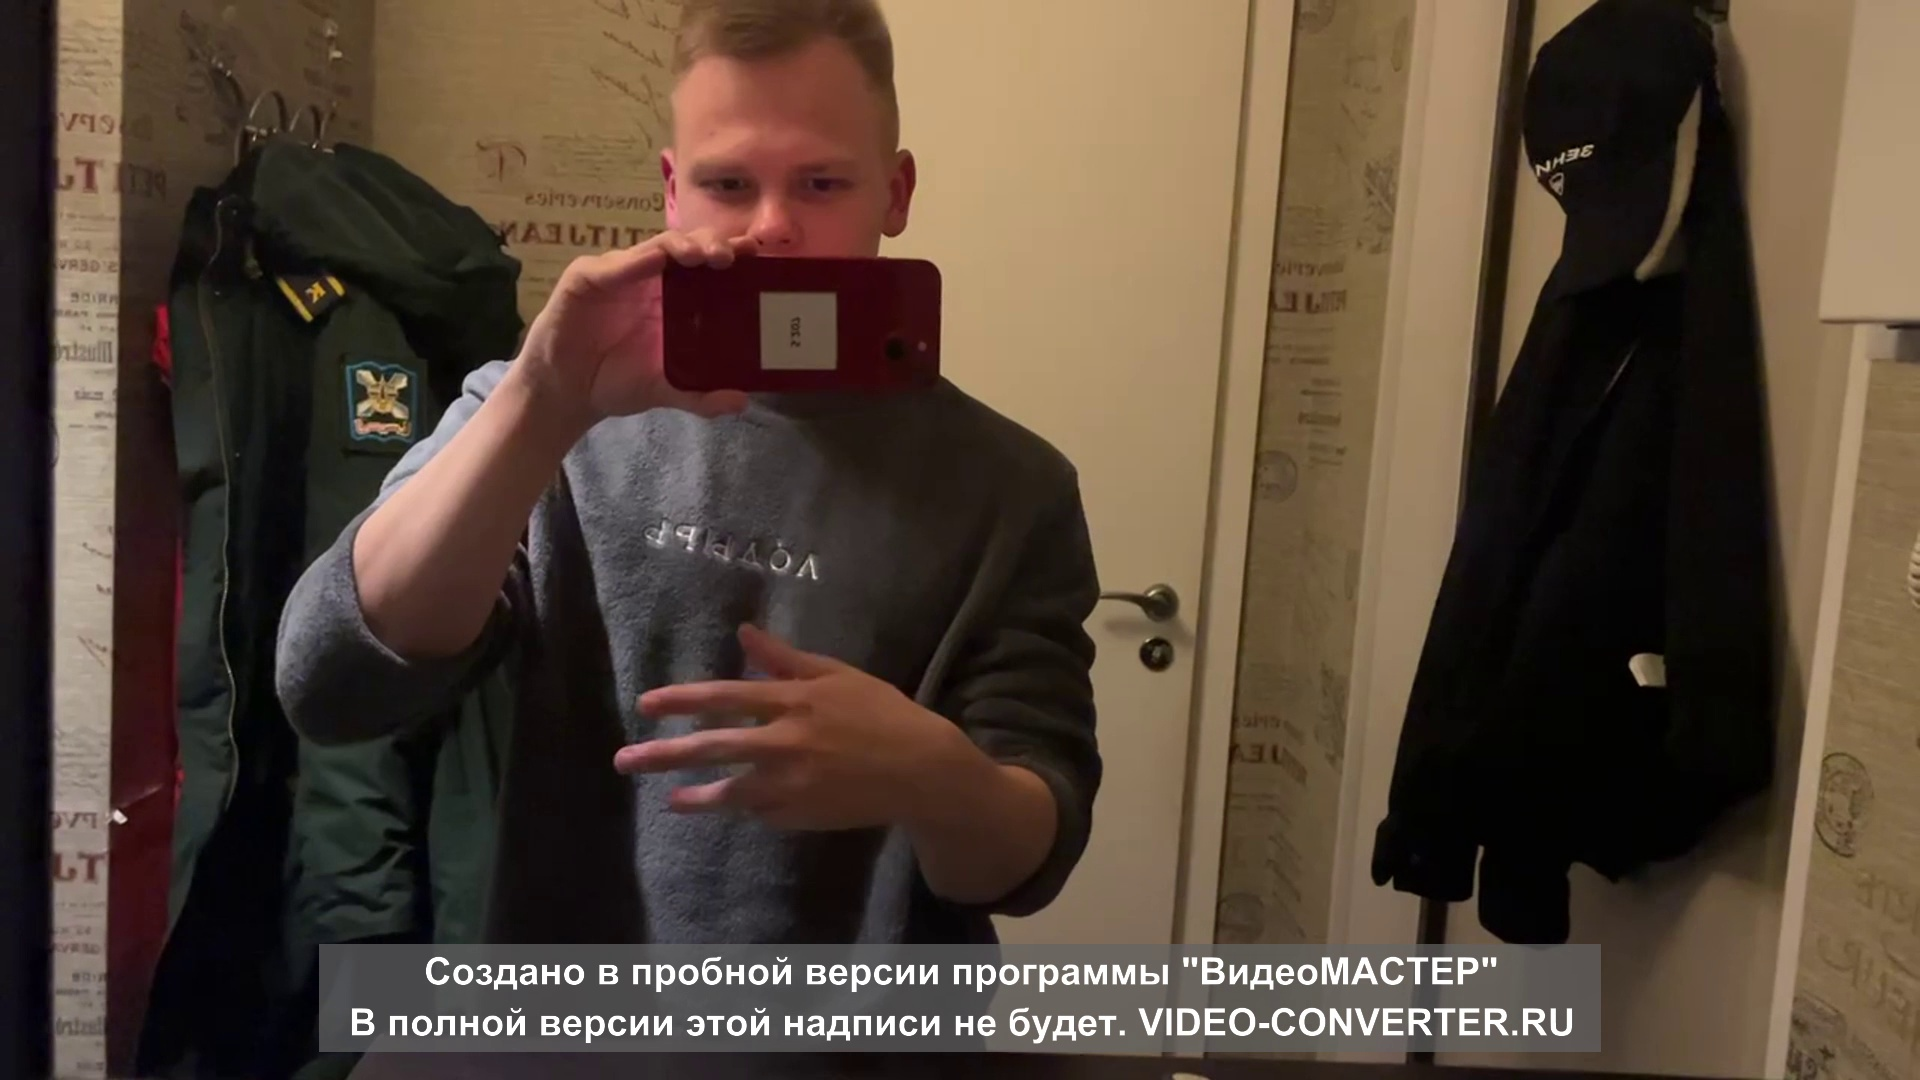Кисть: (612, 625, 906, 825)
